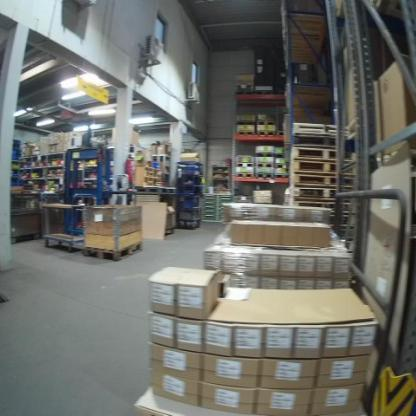pallet: (85, 239, 145, 263), (291, 170, 336, 185), (292, 145, 336, 160), (293, 193, 336, 206), (291, 160, 336, 170), (293, 185, 336, 193), (255, 152, 275, 158), (255, 162, 275, 168), (236, 162, 255, 168), (237, 120, 255, 126), (256, 130, 276, 135), (255, 173, 275, 178), (237, 131, 256, 136), (235, 90, 254, 95), (257, 120, 275, 125), (275, 163, 290, 169), (235, 173, 255, 177), (275, 174, 291, 179), (254, 91, 274, 95), (275, 153, 287, 158), (277, 131, 285, 135)
stillage: (11, 189, 41, 242)
